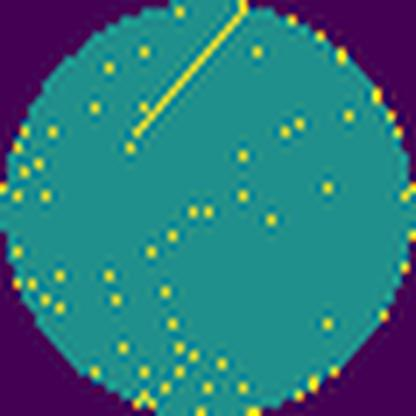Scratch: (130, 7, 248, 144)
